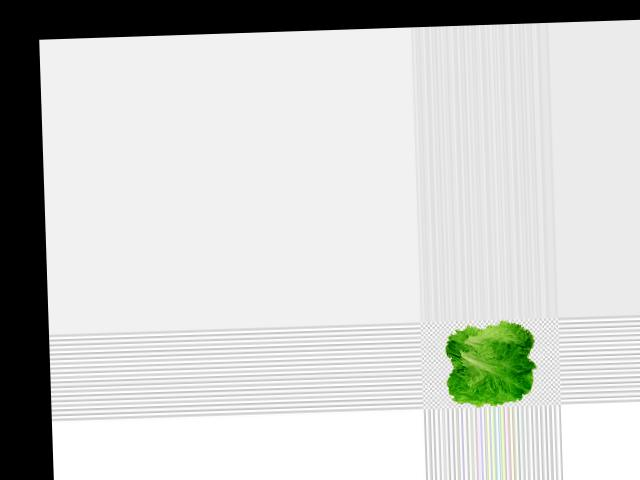lettuce: (438, 317, 543, 409)
